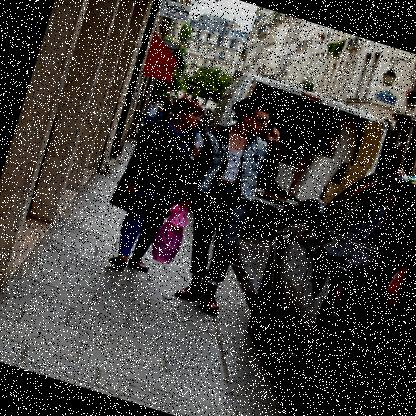Car: (221, 148, 415, 415)
